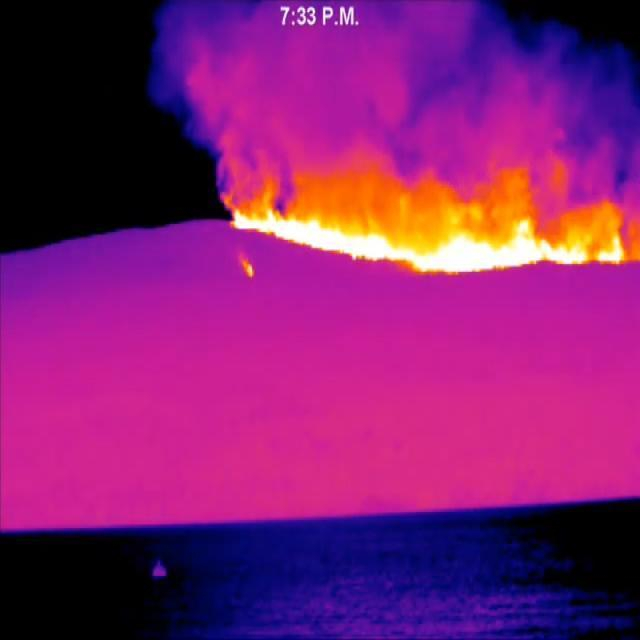fire: (230, 156, 640, 285)
